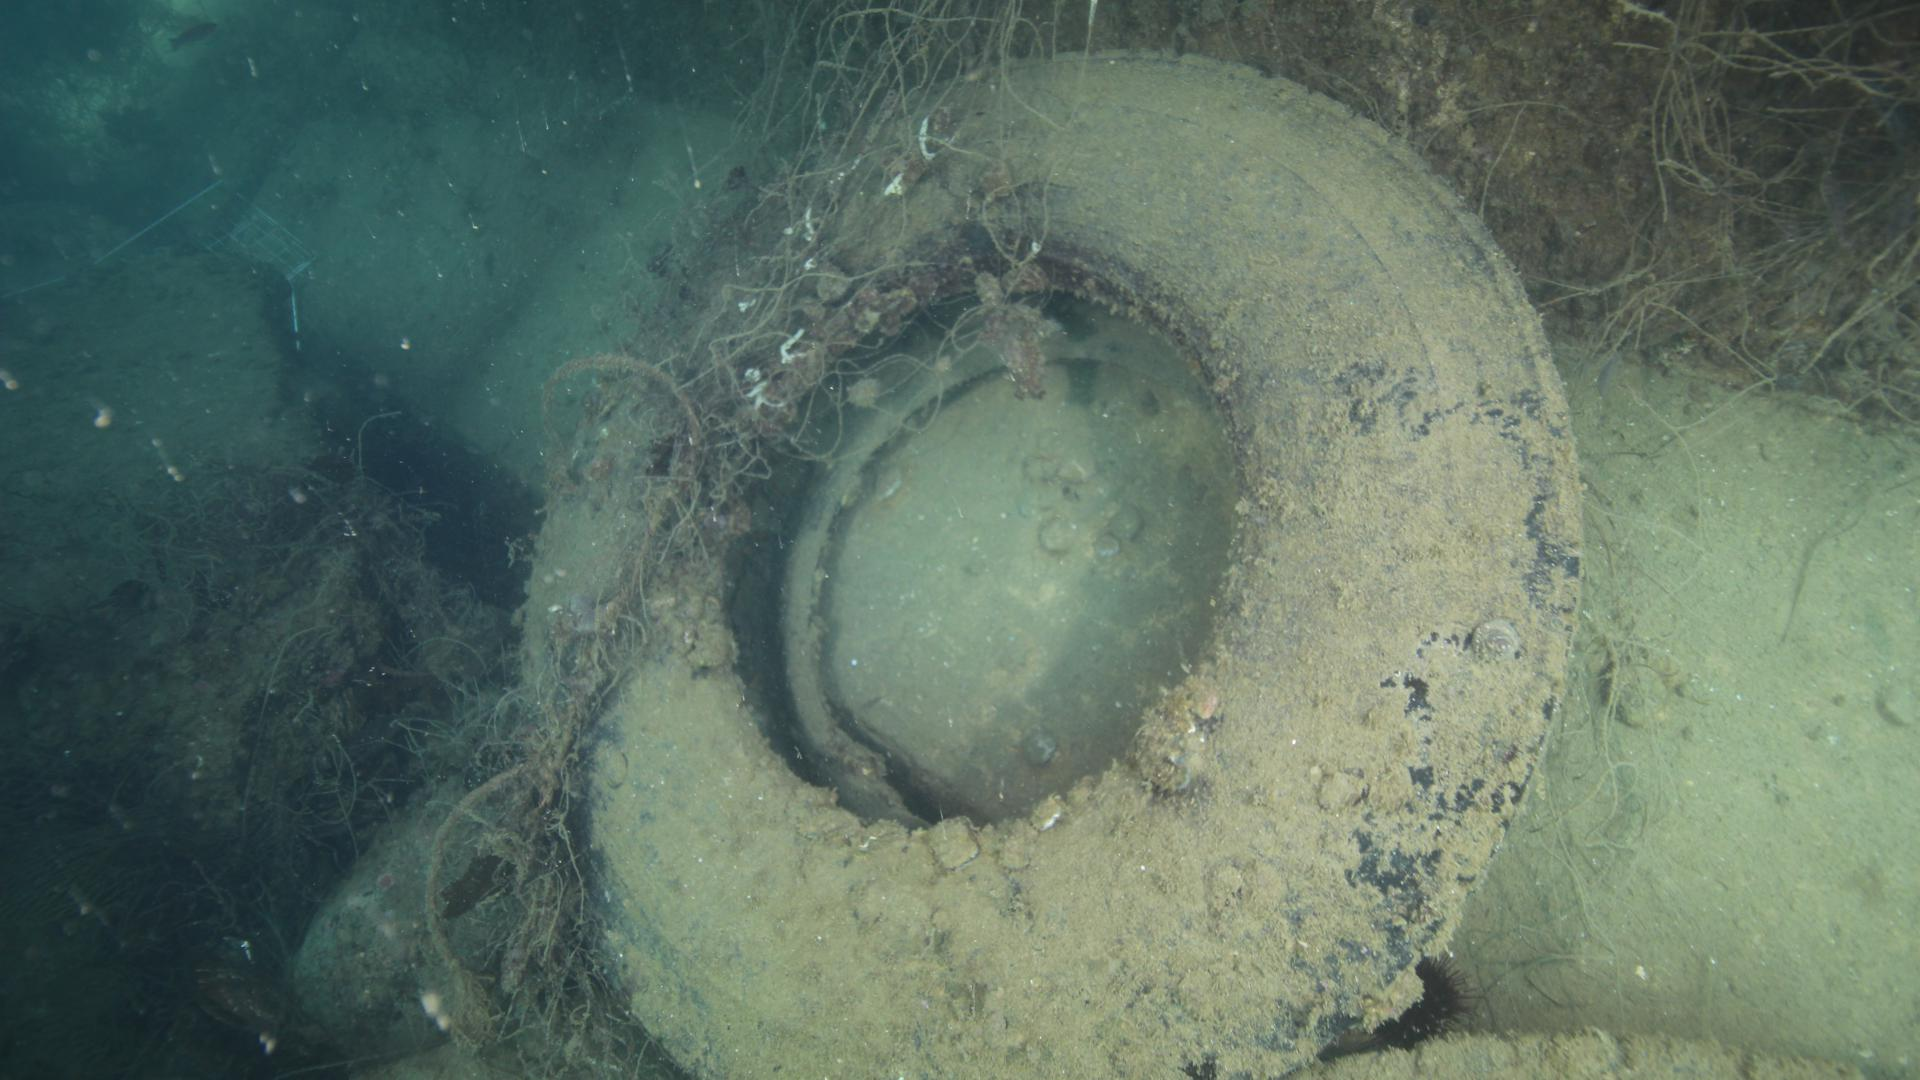tire: (531, 42, 1592, 1080)
